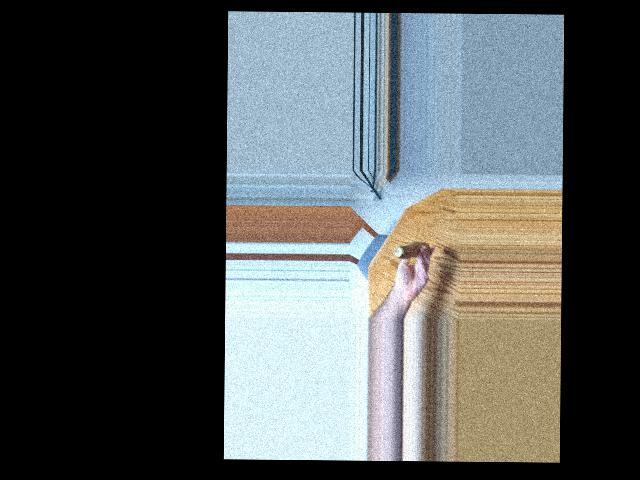sweet_potato: (388, 239, 431, 268)
